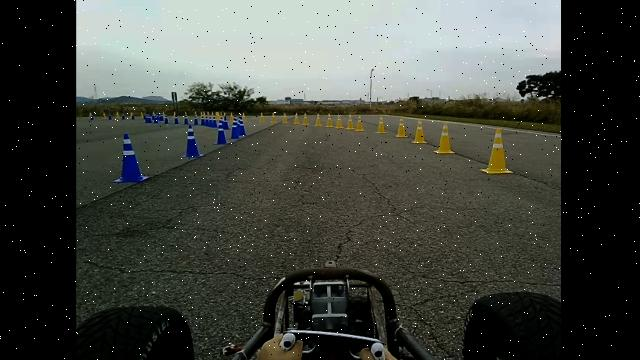blue cone: (113, 133, 149, 183), (180, 124, 203, 158), (214, 127, 228, 144), (230, 116, 240, 139), (237, 115, 247, 136)
yellow cone: (480, 127, 513, 174), (434, 123, 454, 154), (411, 118, 427, 144), (395, 116, 408, 138), (374, 115, 386, 134), (354, 116, 364, 132), (334, 113, 344, 129), (345, 113, 354, 130), (325, 112, 334, 128), (314, 112, 322, 126), (301, 112, 309, 126), (292, 112, 300, 124)
